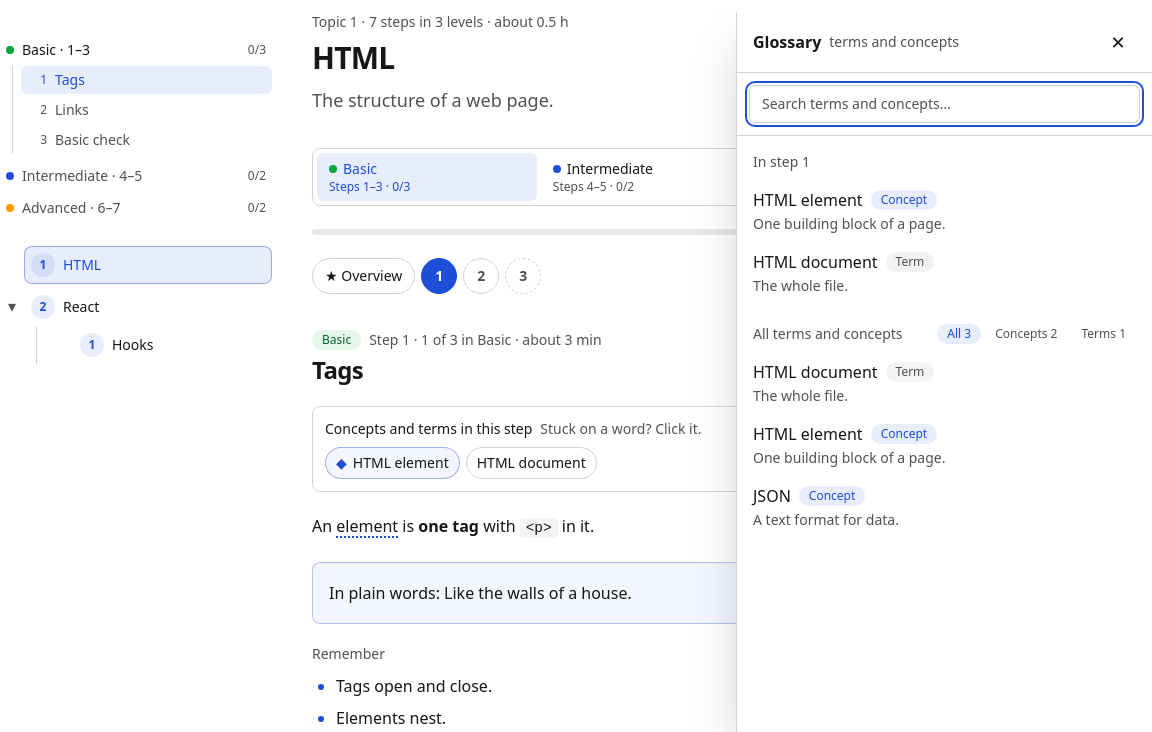
GlossaryPanel › searches by name and alias, opens the first result on Enter, and says when nothing matches
Type "doctype" into the search field at (944, 104), box 749,85 -> 1140,123
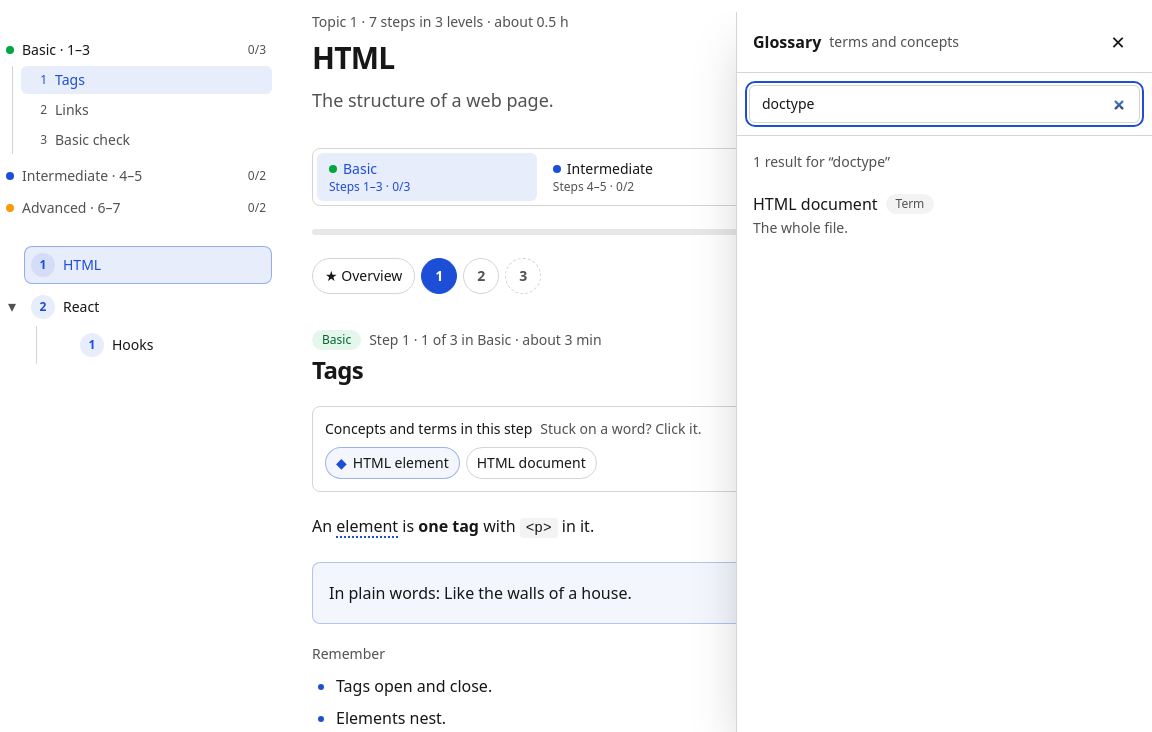
Now the message reads "1 result for “doctype”", box 753,152 -> 890,171
Press Enter
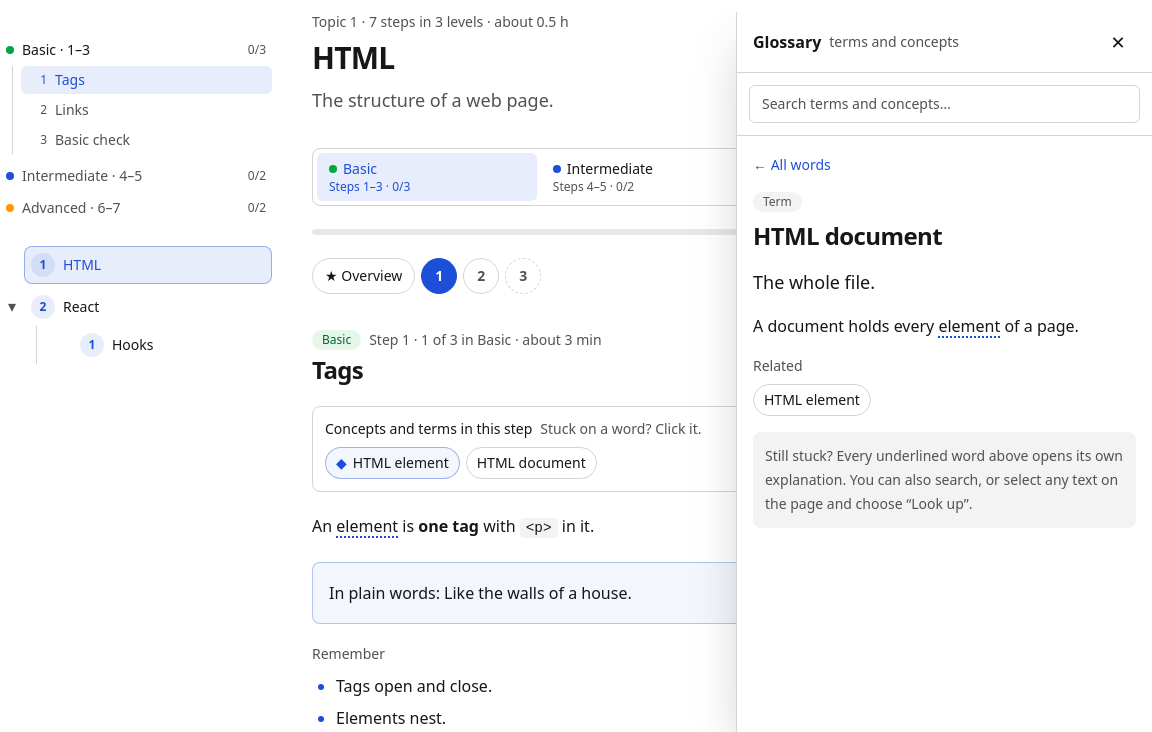
Expected: the heading "HTML document" is shown, 753,219 -> 942,252
Type "kitchen" into the search field at (944, 104), box 749,85 -> 1140,123
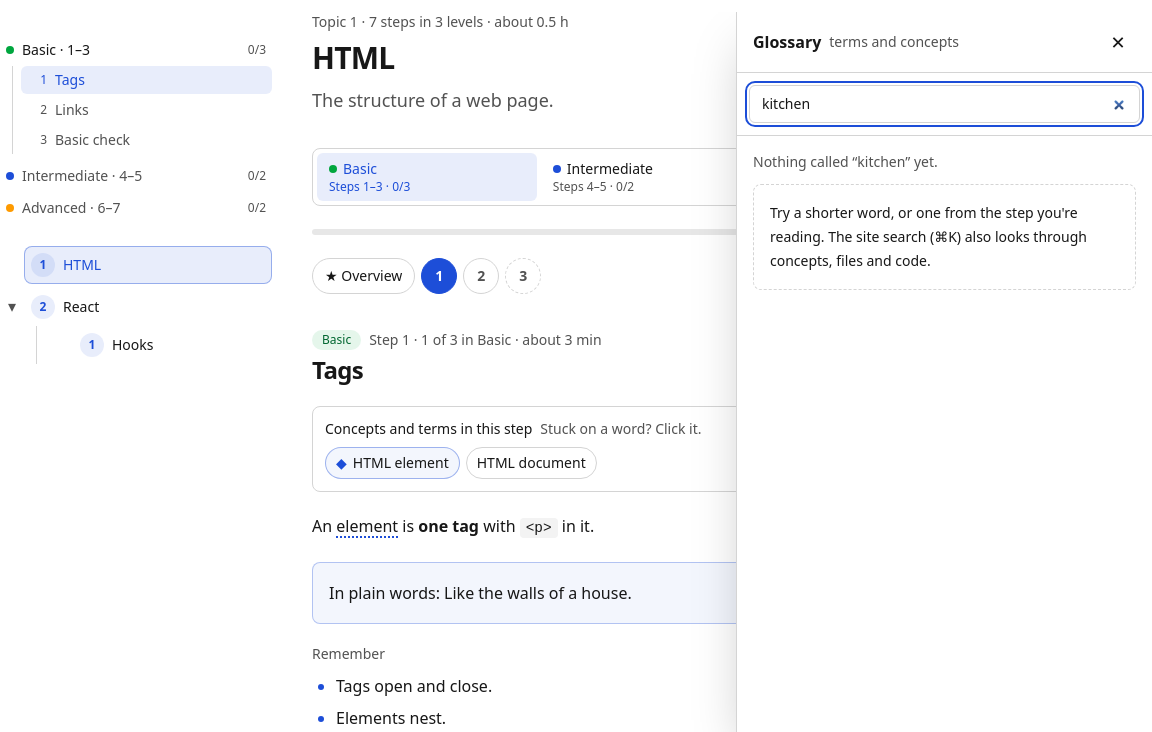
Now the message reads "Nothing called “kitchen” yet.", box 753,152 -> 938,171
